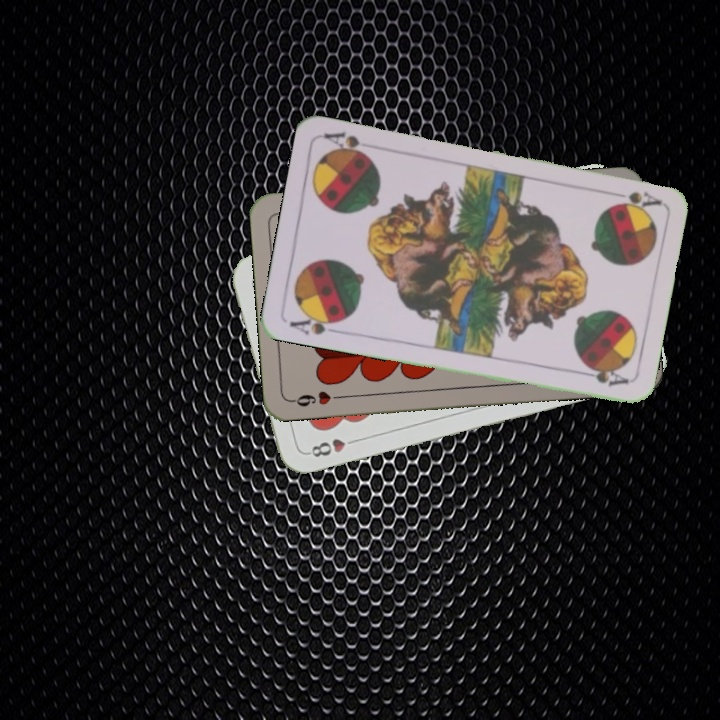H8: (303, 434, 361, 460)
H9: (288, 386, 347, 409)
SA: (285, 308, 345, 338), (604, 187, 663, 211)
